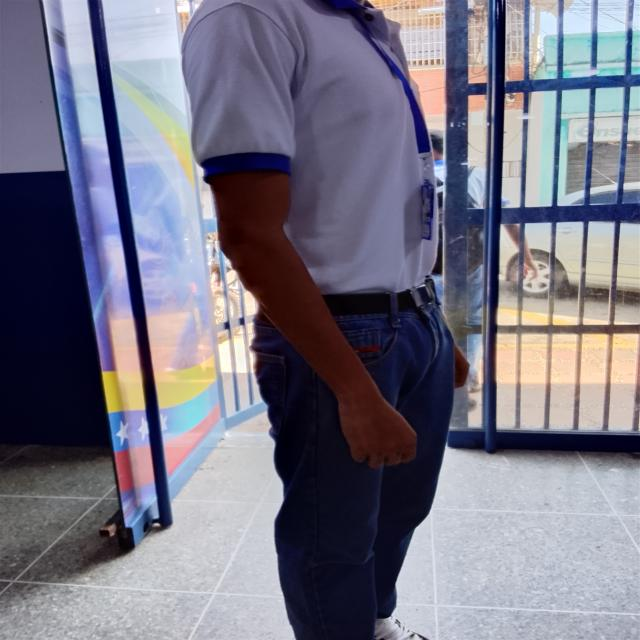carnet: (418, 184, 436, 239)
uniforme_superior: (181, 0, 435, 293)
